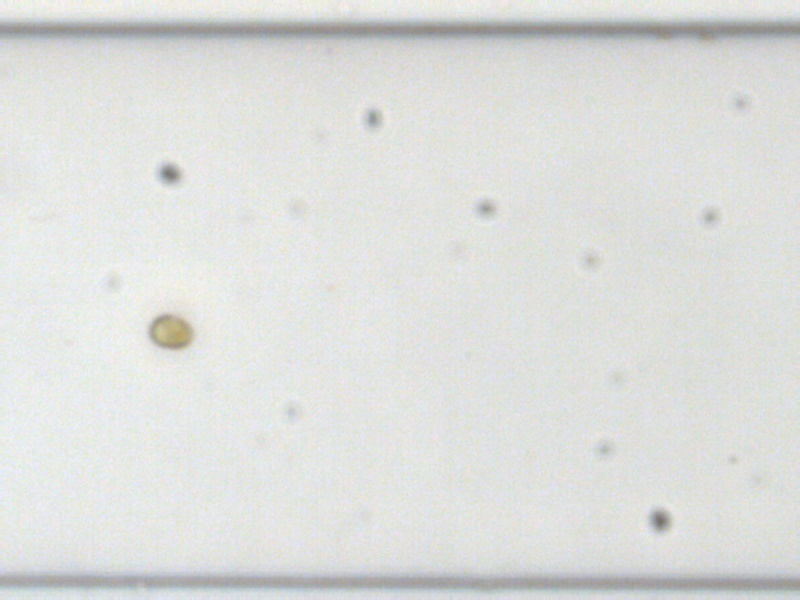Effrenium: (147, 312, 194, 350)
